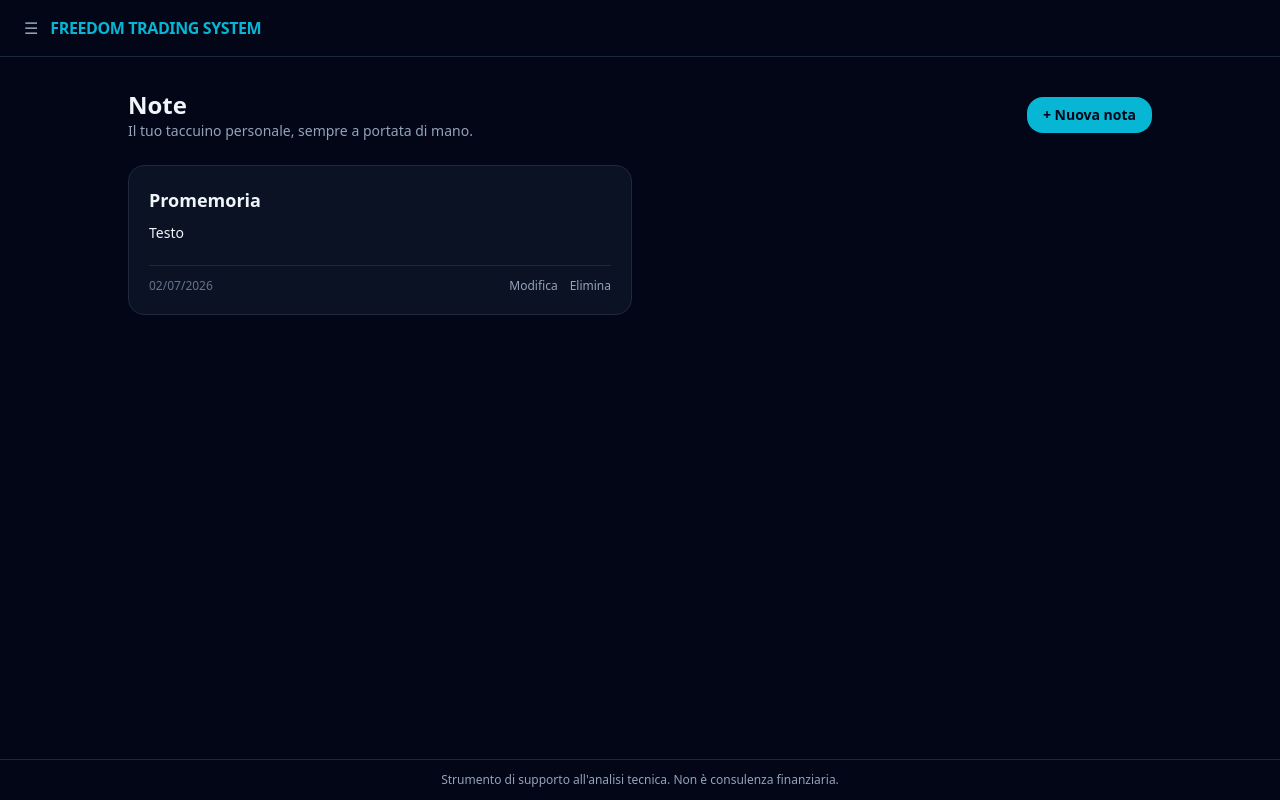
Notes › elimina una nota dopo conferma
Click the button with aria-label "Elimina Promemoria": {"x": 590, "y": 286} x1=570 y1=278 x2=611 y2=294
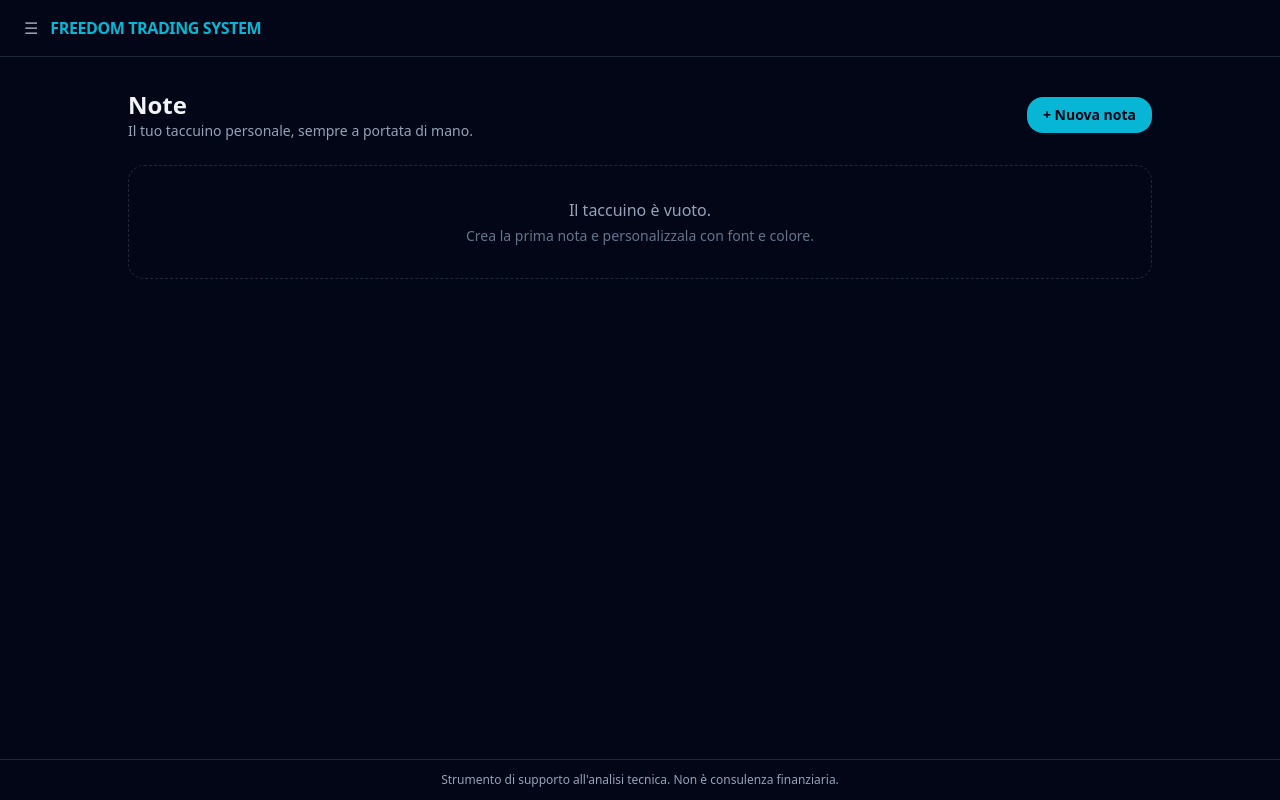
Expected: the heading "Promemoria" is gone
